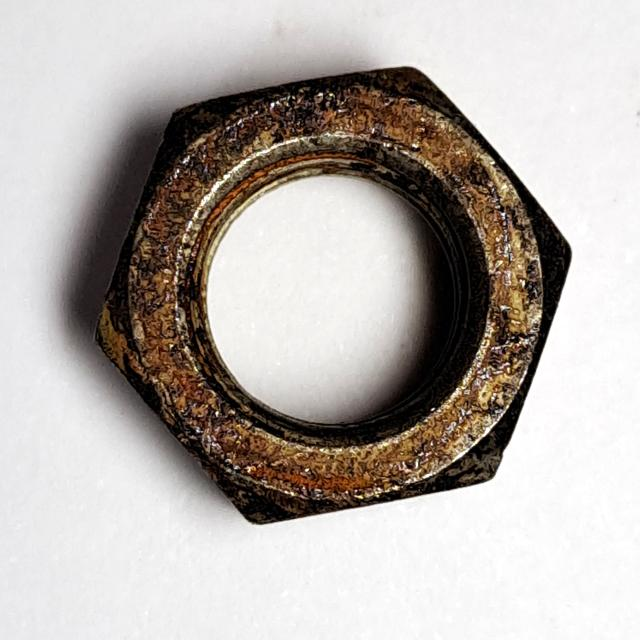Rust: (81, 53, 587, 541)
